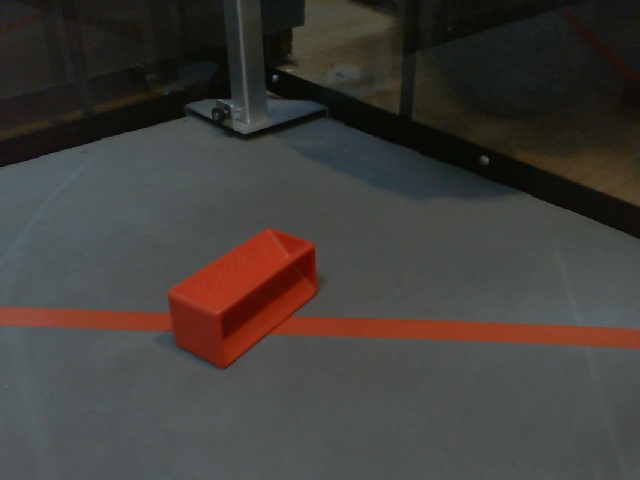RedSample: (163, 229, 320, 368)
